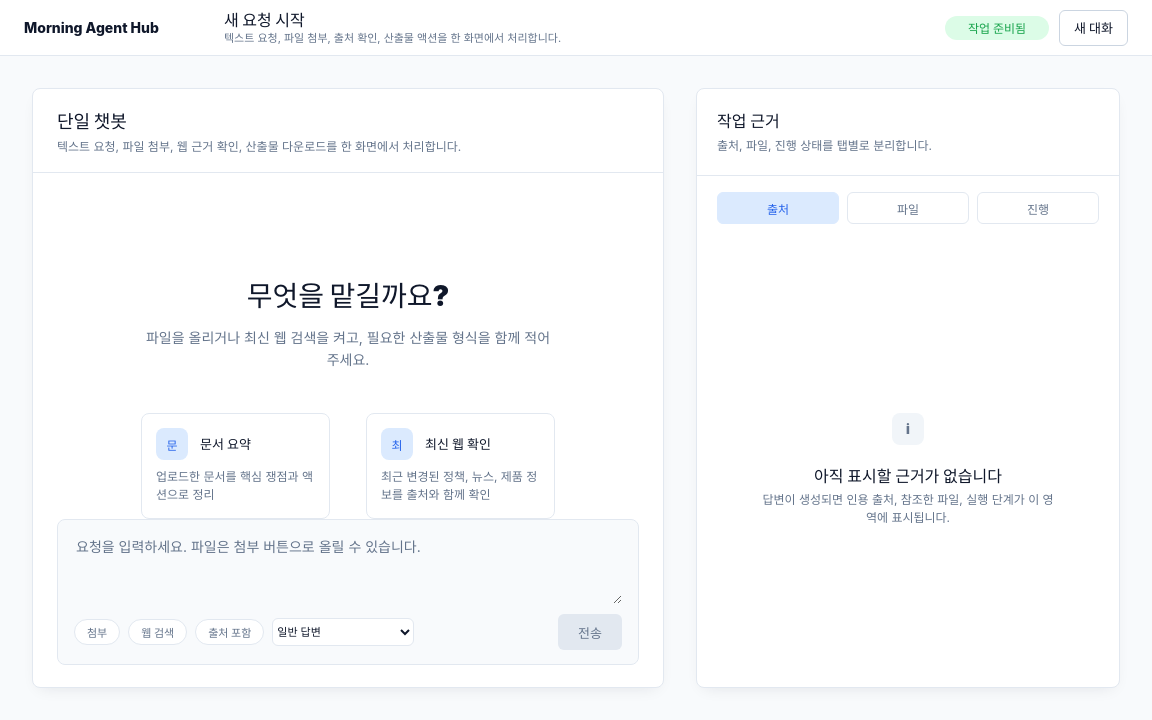
ChatShell › renames a drive file from the file panel after confirmation
The image size is (1152, 720).
Click the button "파일" at (908, 208), box x1=847 y1=192 x2=969 y2=224
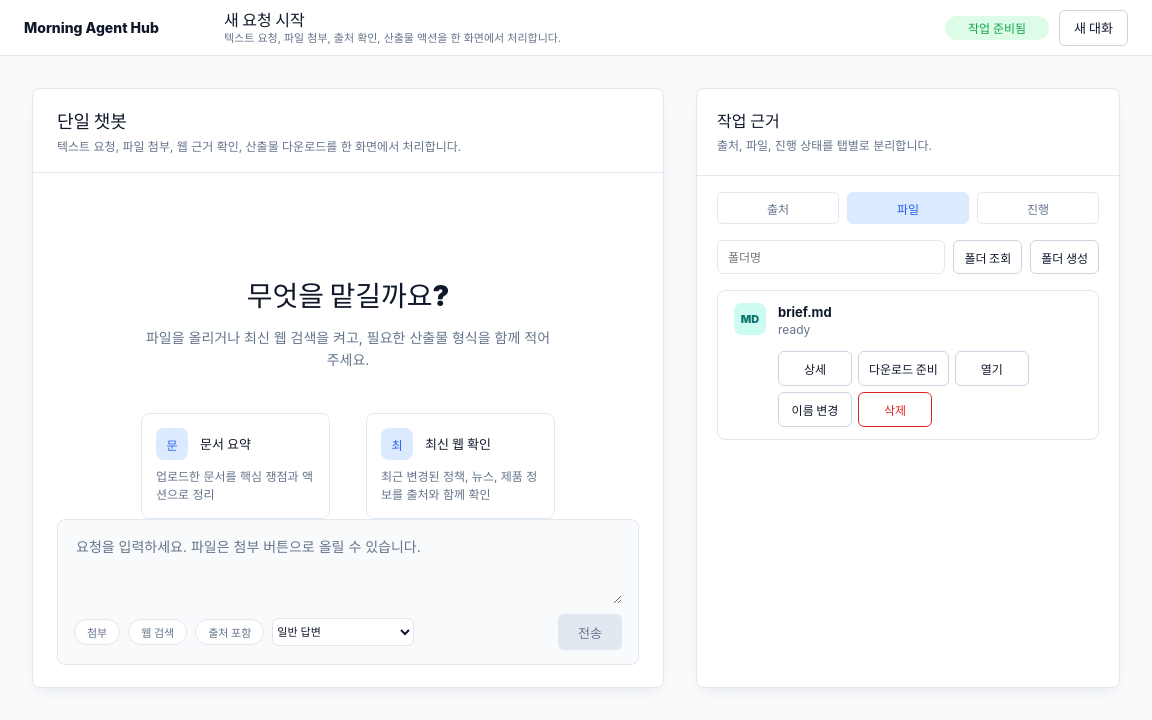
Click the button with test id "file-rename-button" at (815, 410), box x1=778 y1=392 x2=852 y2=427
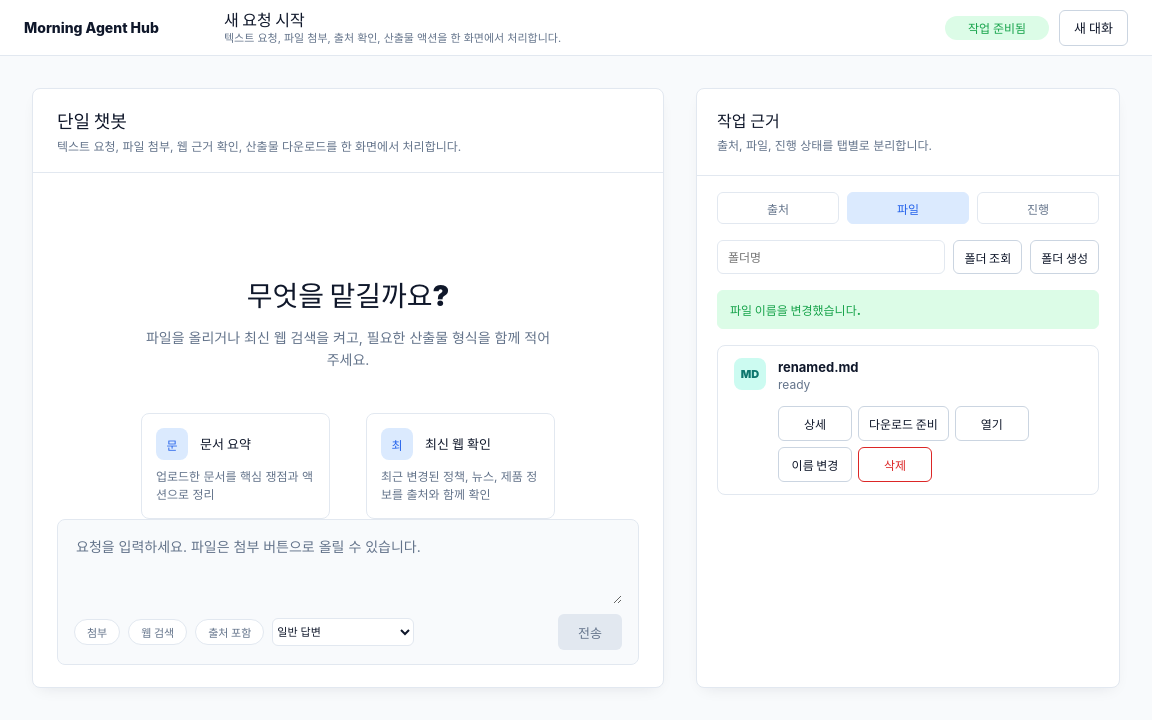
Check: the text "파일 이름을 변경했습니다." is shown, box x1=717 y1=290 x2=1099 y2=329
Check: the text "renamed.md" is shown, box x1=778 y1=359 x2=859 y2=375
